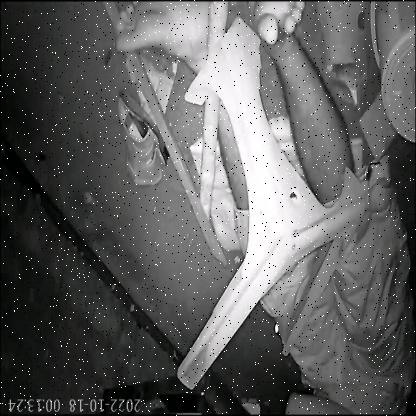leg: (244, 0, 354, 191), (107, 0, 210, 73)
